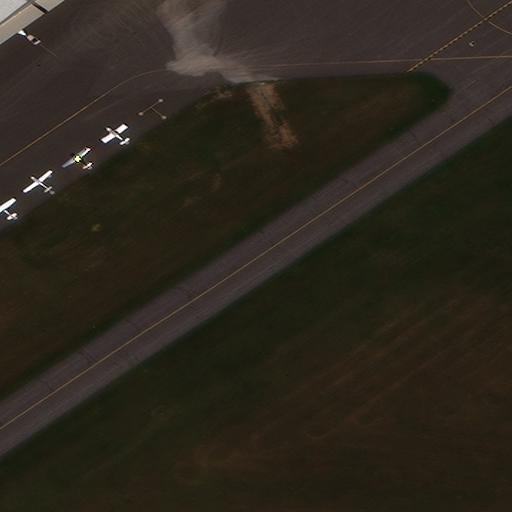Small Civil Transport: (60, 146, 90, 167), (21, 169, 50, 190), (99, 123, 127, 143), (0, 197, 13, 218)
